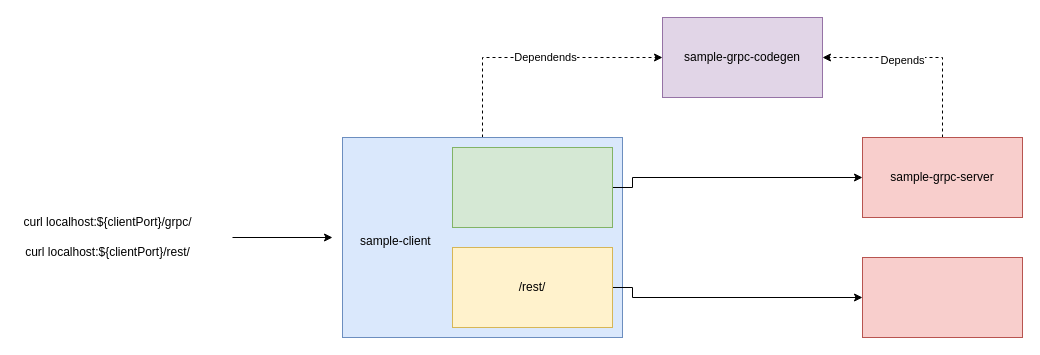
Some shapes in this 1040 by 355 pixel diagram are drawn without their labels. The centre of each missing label's shape, as x and y in pixels:
"/grpc/" belongs at (x=532, y=187).
"sample-springboot-server" belongs at (x=942, y=297).
